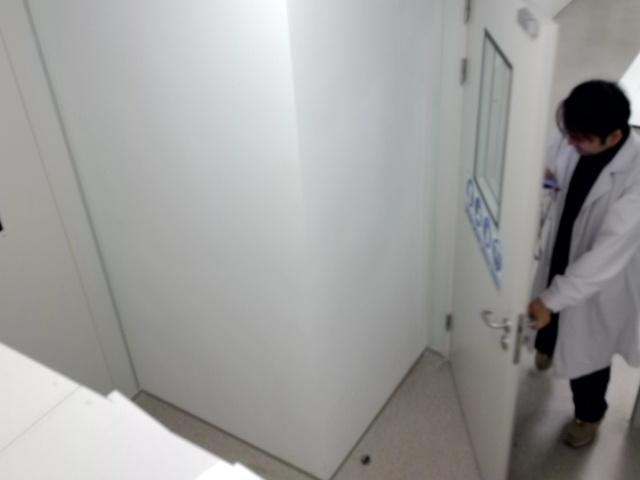Lab_coat: (528, 79, 639, 380)
